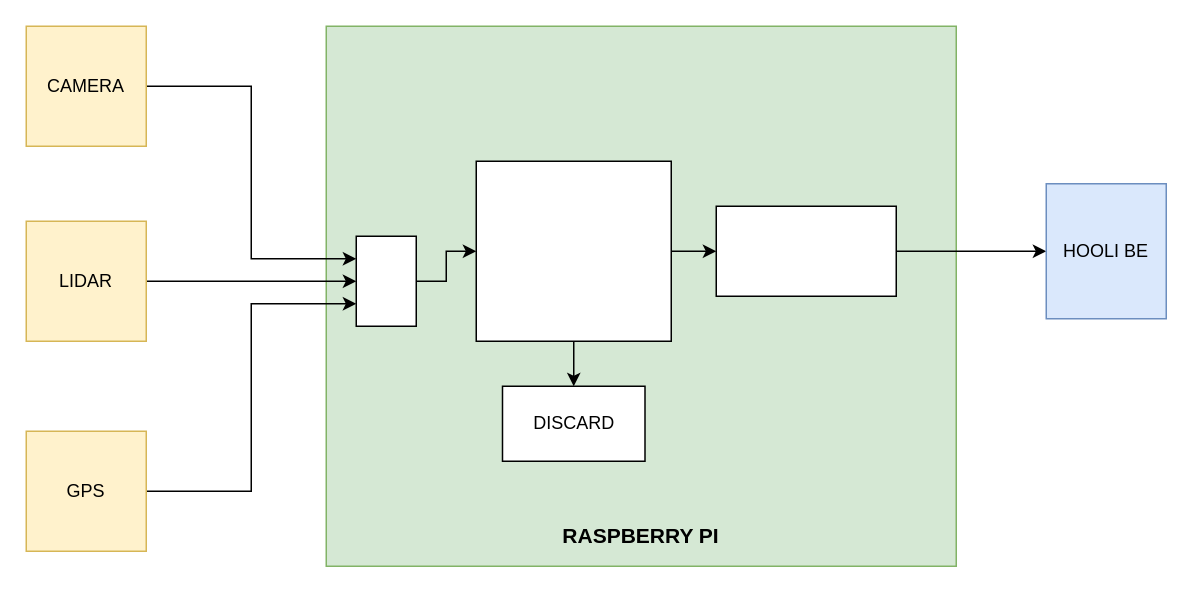
This 1193x593 diagram has some shape labels left out. Here are the shapes that lost their labels. From the top down, the centre of each, then its label:
At (x=573, y=250): "PROCESSING - CP timestamps".
At (x=805, y=250): "STORE TO FILE".
At (x=385, y=280): "IO".
